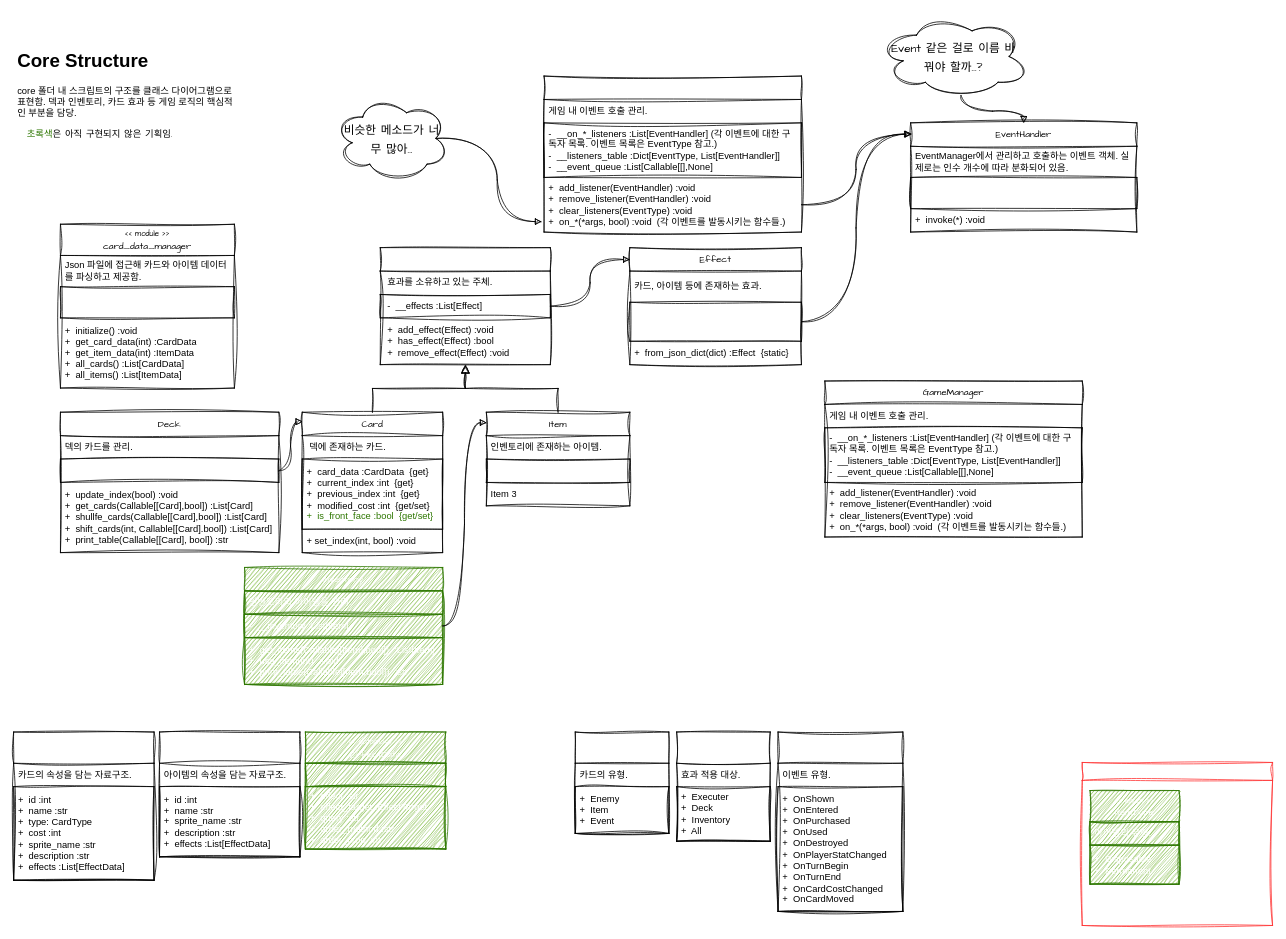
Image size: 1286x939. Some labels were removed from this diagram. Here are the shapes that lost their labels. From the top down, the box of each, then its label:
(543, 75, 801, 232): EventManager
(910, 177, 1137, 209): + owner :Effect {get} - __listener :Callable[[*],None]
(60, 286, 234, 318): + CARDS_DATA_PATH :str {const} + ITEMS_DATA_PATH: str {const}
(379, 247, 550, 365): EffectHolder
(629, 301, 801, 341): + owner :EffectHolder {get} + effect_data :EffectData {get}
(60, 458, 279, 482): - __deck :List[Card]
(486, 458, 630, 482): + item_data :ItemData {get}
(159, 731, 300, 857): << dataclass >> ItemData
(305, 762, 446, 787): 효과의 속성을 담는 자료구조.
(574, 731, 669, 833): << enum >> CardType
(676, 731, 770, 841): << enum >> EffectTarget
(13, 731, 154, 880): << dataclass >> CardData
(777, 731, 903, 911): << enum >> EventType
(1081, 762, 1273, 925): 휴지통
